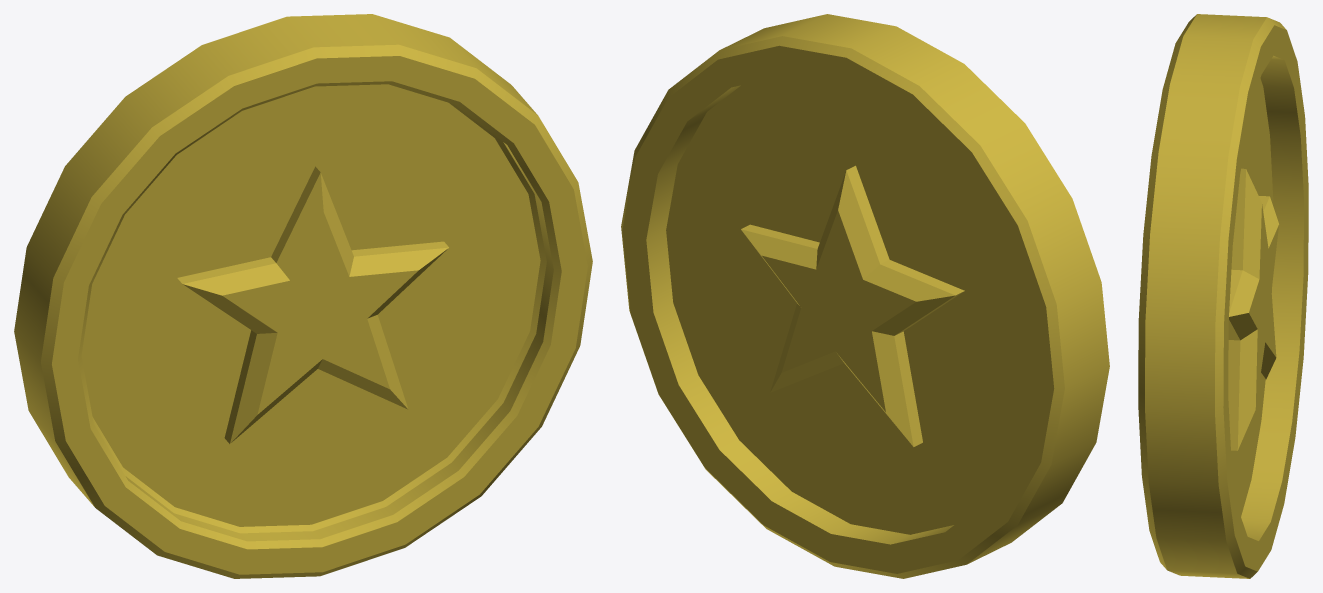
File: Coin.fbx
3 renders of one model, left to right at view 1: azimuth 30°, elevation 25°; view 2: azimuth 150°, elevation 25°; view 3: azimuth 270°, elevation 25°, orthographic. The views are drawn at different scales.
Parts seen in each view (by area): view 1: pCylinder5; view 2: pCylinder5; view 3: pCylinder5.
Boxes of the visible parts, bbox=[...] form: pCylinder5: bbox=[14, 14, 592, 578]; pCylinder5: bbox=[621, 14, 1109, 578]; pCylinder5: bbox=[1138, 14, 1308, 578].
Bounding box in the file's own units: 26.72 × 26.6 × 8.01.
